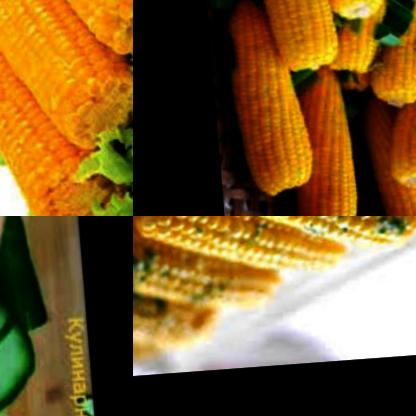corn: (0, 0, 111, 216), (0, 0, 133, 162), (133, 216, 343, 307), (222, 0, 308, 205), (133, 216, 273, 341), (148, 216, 416, 274), (286, 70, 365, 216), (0, 0, 133, 69), (239, 0, 343, 78), (133, 263, 200, 369), (359, 96, 416, 216), (364, 0, 416, 120), (374, 86, 416, 202), (300, 0, 385, 45)
cucumber: (0, 216, 48, 363), (0, 273, 49, 416)
